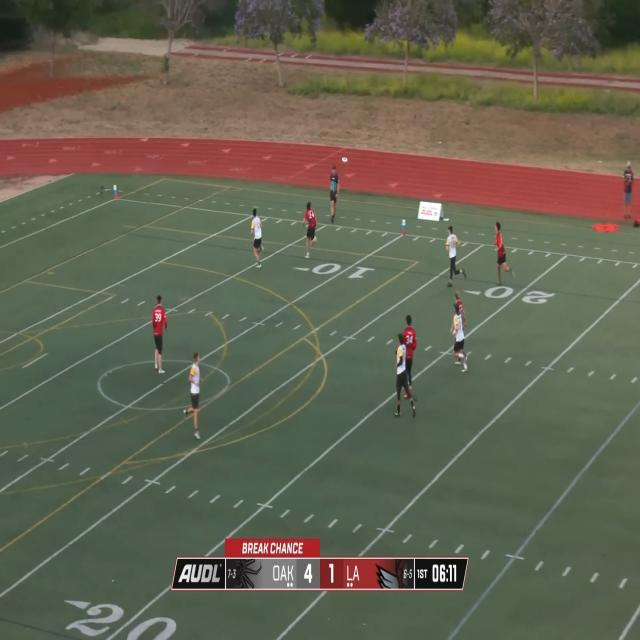Disc: (341, 157, 348, 163), (443, 218, 449, 221)
Player: (395, 334, 415, 416), (152, 297, 169, 373), (403, 314, 417, 398), (189, 359, 203, 440), (495, 222, 513, 284), (452, 304, 468, 372), (454, 291, 467, 363), (445, 224, 460, 282), (303, 204, 319, 258), (251, 208, 265, 267), (329, 169, 341, 220)
